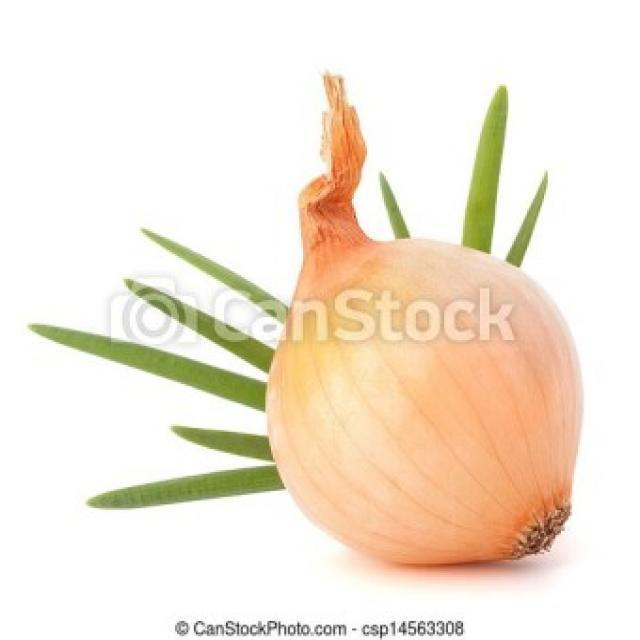Onion: (264, 74, 586, 568)
